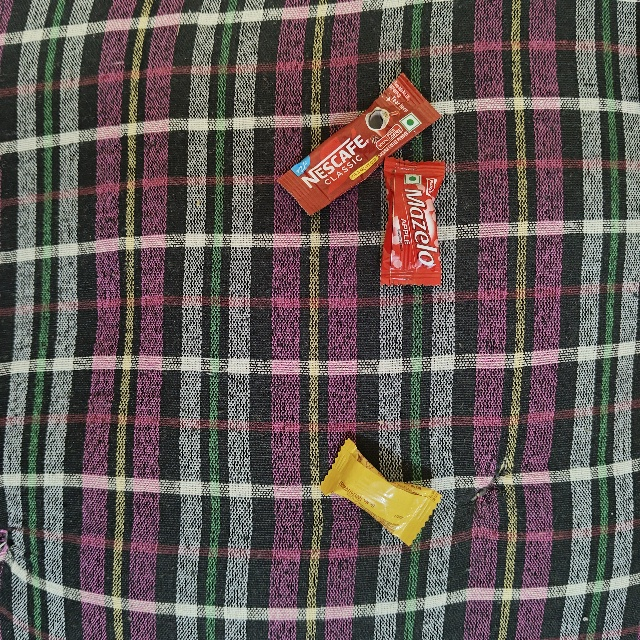Alpenlibe Creamfills: (342, 434, 466, 502)
Mazelo: (387, 158, 443, 286)
Nescafe Coffee: (407, 71, 463, 245)
